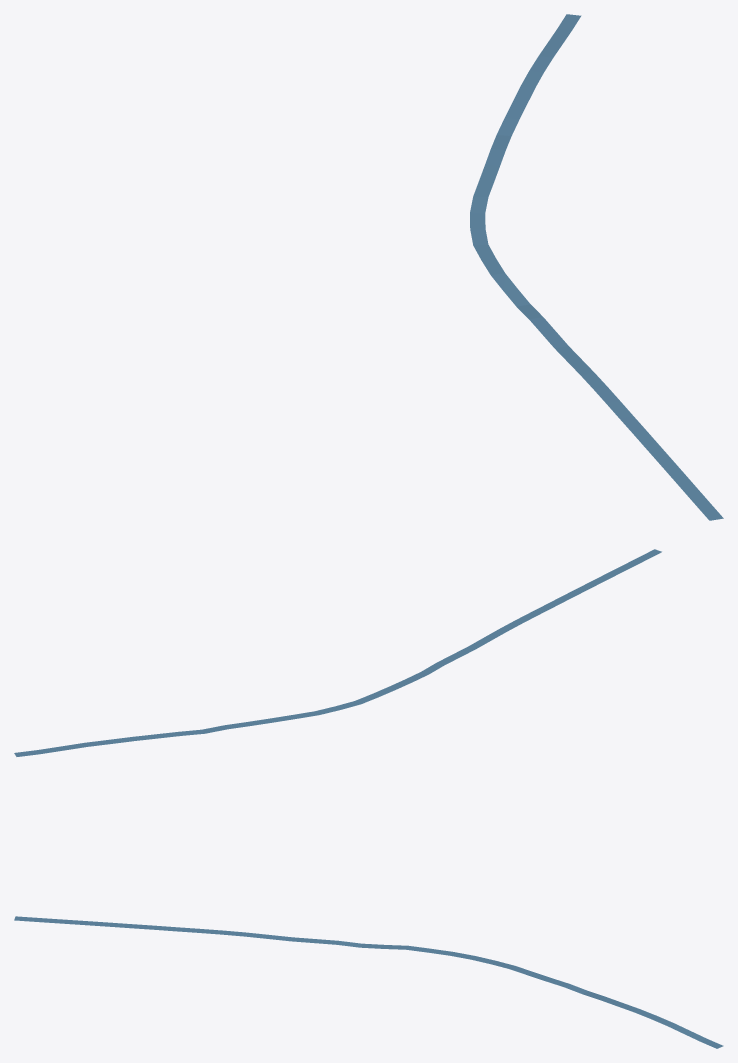
File: c_1625_17837_water.glb
3 renders of one model, top to bottom at view 1: azimuth 30°, elevation 25°; view 2: azimuth 150°, elevation 25°; view 3: azimuth 270°, elevation 25°, orthographic. The views are drawn at different scales.
Parts seen in each view (by area): view 1: geometry_0; view 2: geometry_0; view 3: geometry_0.
Part boxes in pixels (x1,y1,x2,y2): geometry_0: (470,14,723,520); geometry_0: (14,549,661,756); geometry_0: (14,916,723,1048).
Size of the model in its own units: 151 by 2.45 by 181.
